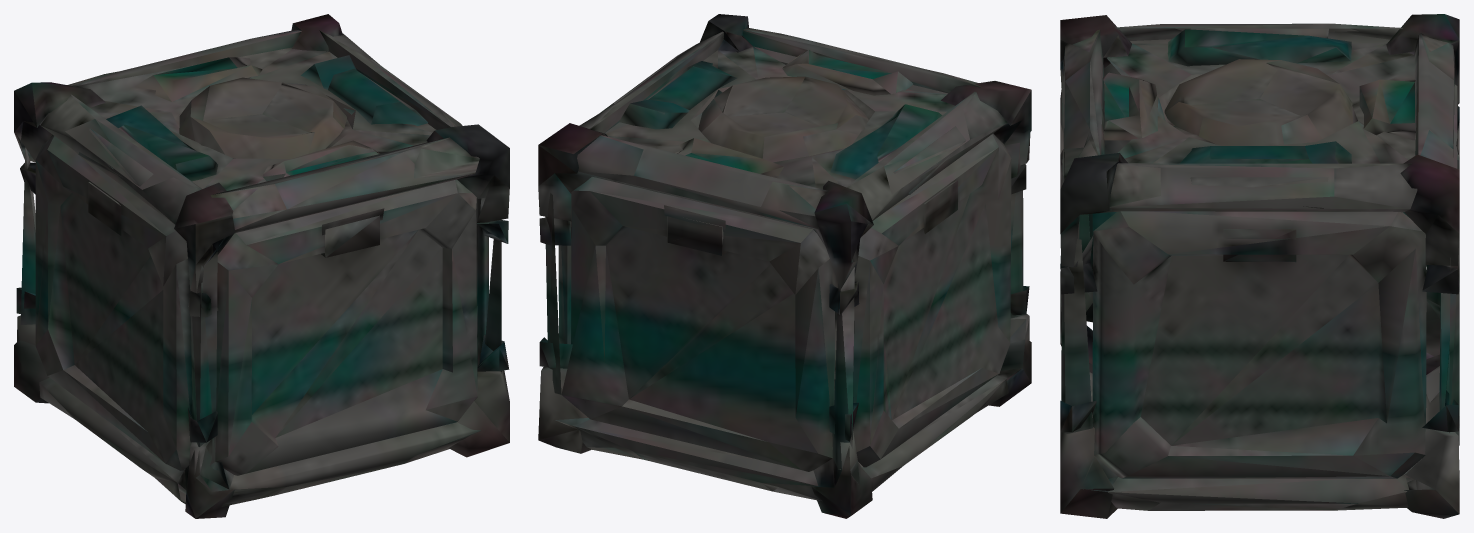
The model's file is crate-large.lod1.glb.
The picture shows the model from 3 angles, left to right: view 1: azimuth 30°, elevation 25°; view 2: azimuth 150°, elevation 25°; view 3: azimuth 270°, elevation 25°; orthographic projection. The views are drawn at different scales.
Size of the model in its own units: 1.16 by 1.12 by 1.16.
Materials: 1 (1 with a texture image).
